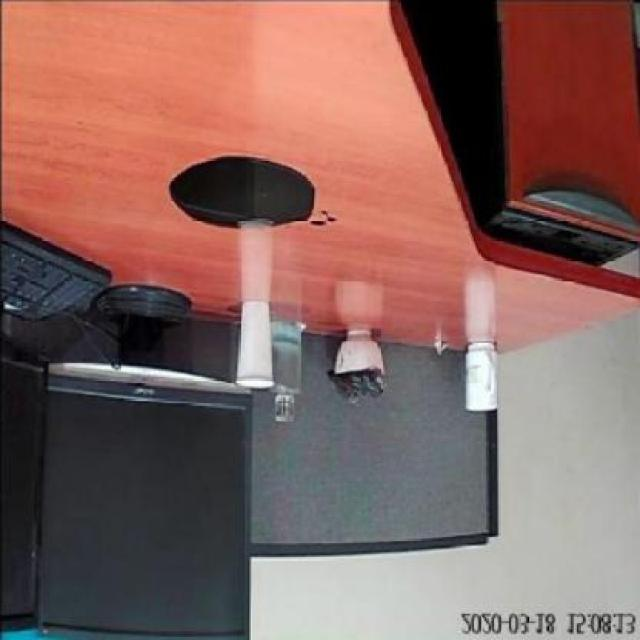spillage: (170, 154, 336, 228)
